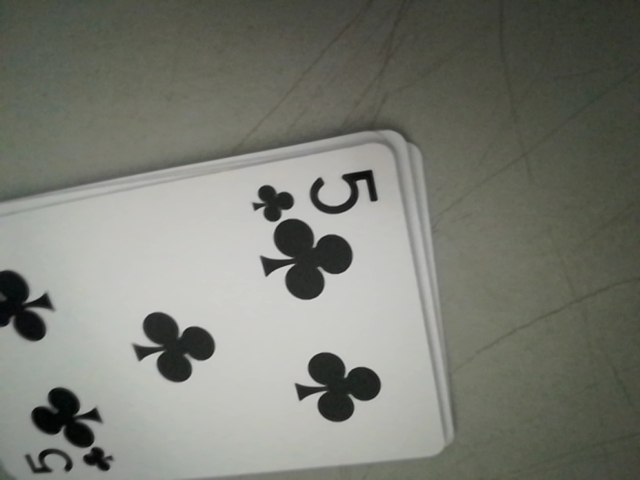mh 5: (246, 159, 388, 222), (18, 440, 116, 478)
